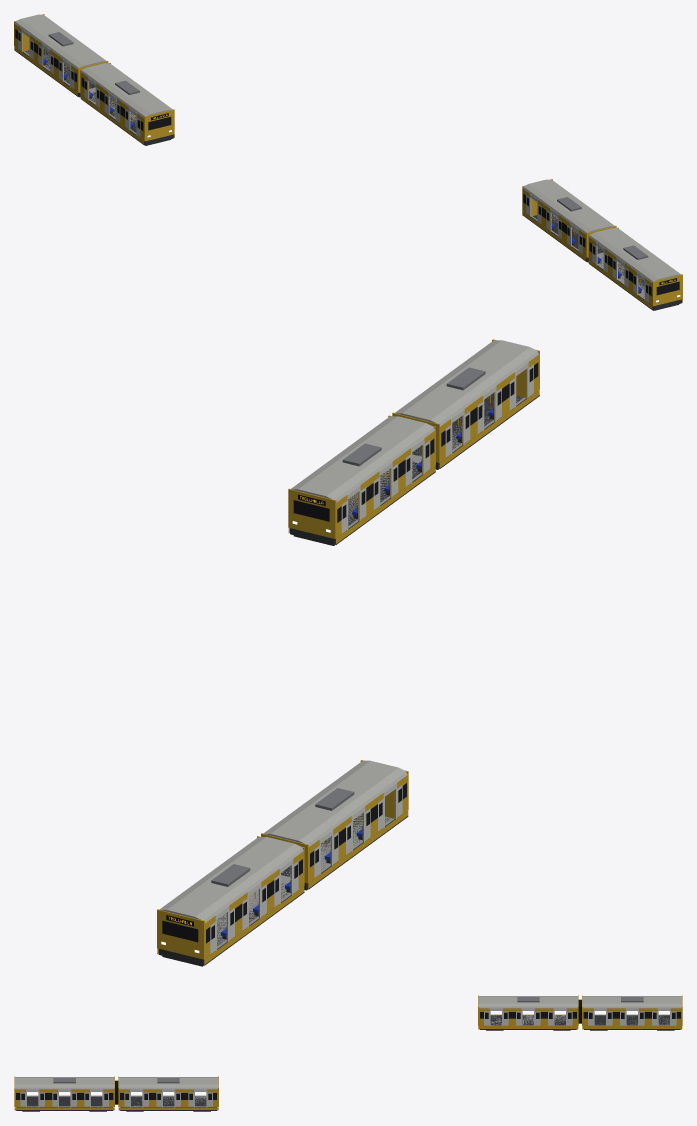
The model's file is ug-trains.glb.
The picture shows the model from 3 angles, top to bottom: view 1: azimuth 30°, elevation 25°; view 2: azimuth 150°, elevation 25°; view 3: azimuth 270°, elevation 25°; orthographic projection. The views are drawn at different scales.
Parts seen in each view (by area): view 1: ug-trains; view 2: ug-trains; view 3: ug-trains.
Part boxes in pixels (left/top/right/bottom): ug-trains: left=14, top=14, right=682, bottom=310; ug-trains: left=157, top=339, right=539, bottom=966; ug-trains: left=14, top=995, right=682, bottom=1111.
Size of the model in its own units: 27.43 by 3.88 by 83.67.
